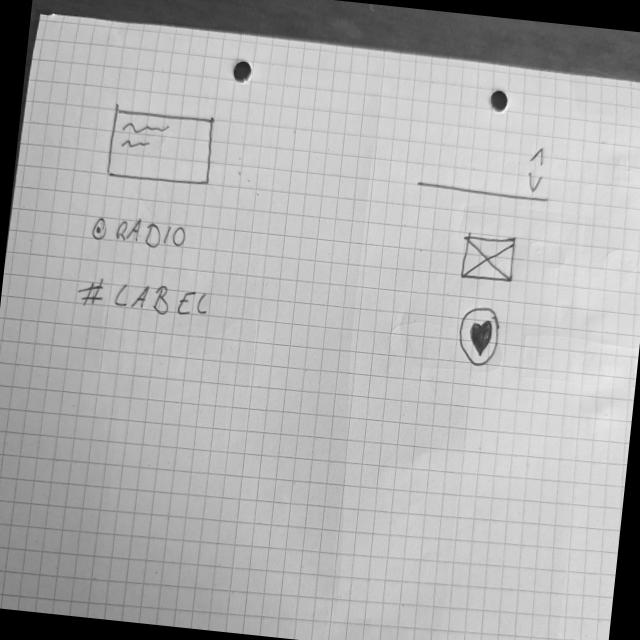icon-button: (452, 303, 505, 375)
image: (459, 229, 523, 288)
label: (75, 276, 213, 323)
number-input: (416, 131, 559, 207)
radio: (89, 211, 190, 256)
textarea: (106, 103, 220, 192)
